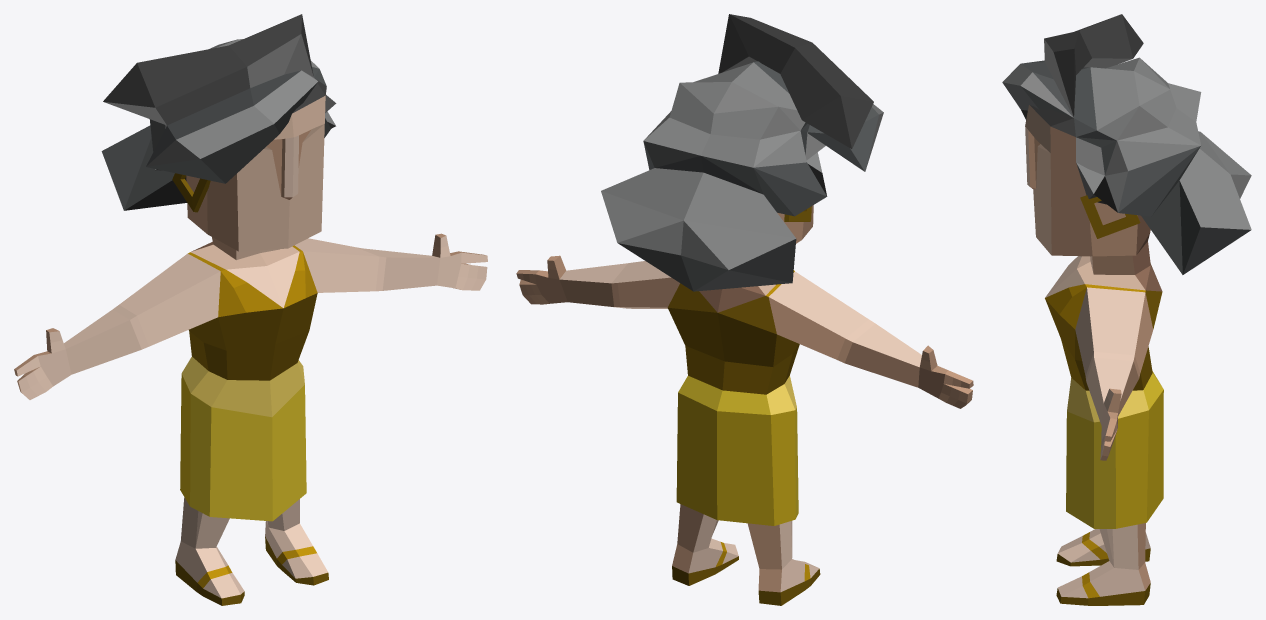
Rendered from esfp.glb.
3 renders of one model, left to right at view 1: azimuth 30°, elevation 25°; view 2: azimuth 150°, elevation 25°; view 3: azimuth 270°, elevation 25°, orthographic. The views are drawn at different scales.
Visible parts, largest first — view 1: esfp; view 2: esfp; view 3: esfp.
Part boxes in pixels (box(x1,y1,x2,y2)): esfp: box(14, 14, 487, 605); esfp: box(516, 14, 973, 605); esfp: box(1002, 14, 1251, 605).
Bounding box in the file's own units: 9.43 × 10.82 × 4.49.
2 materials, 2 textured.
